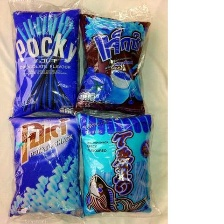snack: (72, 105, 157, 221), (70, 7, 155, 122), (2, 111, 89, 220), (5, 6, 84, 121)
